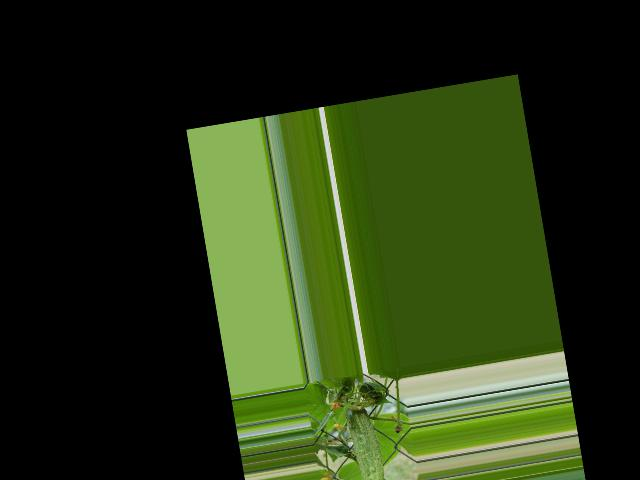cucumber: (344, 399, 388, 480)
